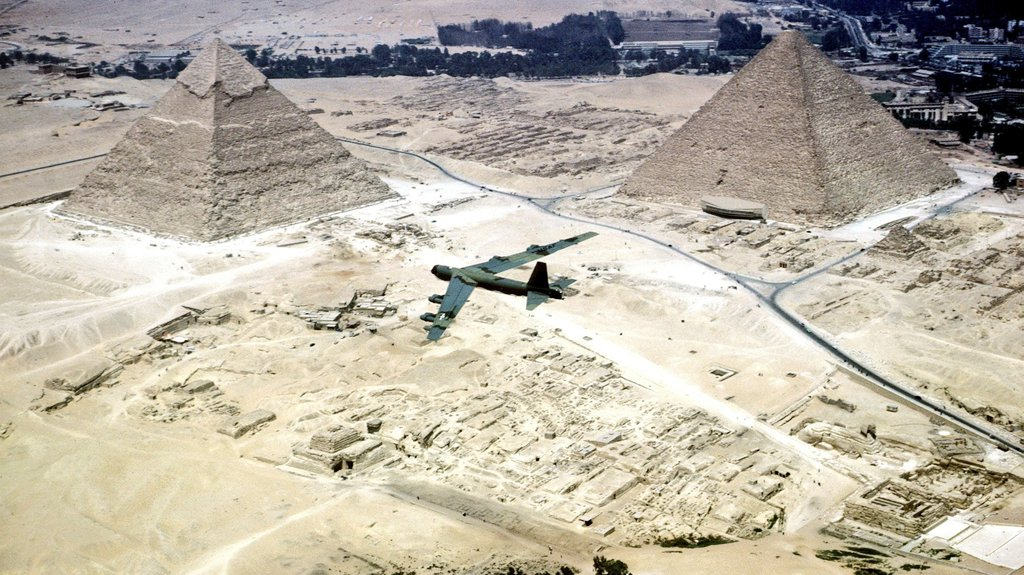B52: (419, 231, 600, 341)
